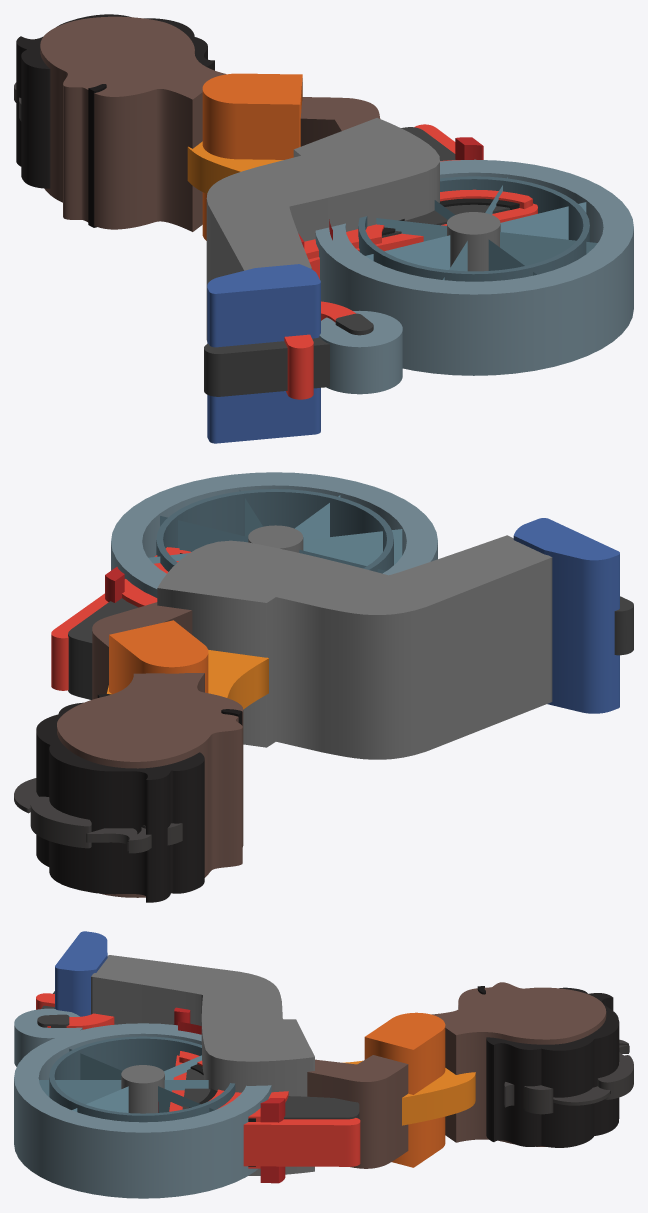
The model's file is emoji_u1f9d1_1f3ff_200d_1f9bd.glb.
3 renders of one model, top to bottom at view 1: azimuth 30°, elevation 25°; view 2: azimuth 150°, elevation 25°; view 3: azimuth 270°, elevation 25°, orthographic. The views are drawn at different scales.
Parts seen in each view (by area): view 1: emoji_u1f9d1_1f3ff_200d_1f9bd; view 2: emoji_u1f9d1_1f3ff_200d_1f9bd; view 3: emoji_u1f9d1_1f3ff_200d_1f9bd.
Boxes of the visible parts, x1,y1,x2,y2 form: emoji_u1f9d1_1f3ff_200d_1f9bd: [14, 14, 633, 443]; emoji_u1f9d1_1f3ff_200d_1f9bd: [14, 472, 633, 902]; emoji_u1f9d1_1f3ff_200d_1f9bd: [14, 931, 633, 1198].
Size of the model in its own units: 0.0219 by 0.007 by 0.0324.
